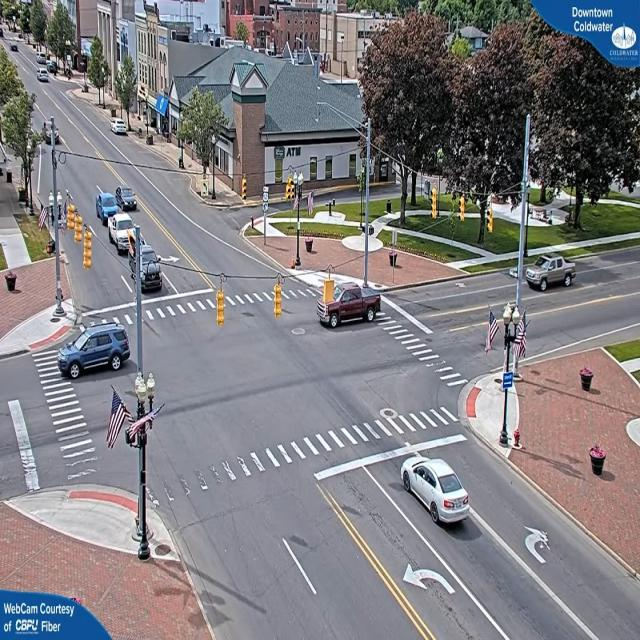car: (401, 457, 469, 529), (59, 322, 133, 378), (313, 274, 382, 329), (524, 252, 576, 292), (139, 243, 163, 294), (94, 193, 120, 221), (115, 186, 138, 212), (112, 120, 129, 136), (39, 68, 51, 82), (11, 44, 21, 54)
truck: (108, 215, 135, 252)
